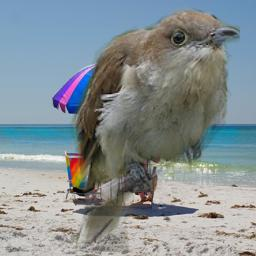Cuckoo: (69, 7, 240, 252)
